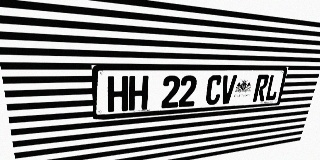2: (161, 75, 181, 108), (178, 75, 197, 107)
C: (205, 75, 223, 105)
H: (107, 76, 128, 112), (128, 76, 149, 111)
L: (264, 74, 281, 101)
R: (252, 75, 270, 102)
V: (219, 75, 237, 104)
